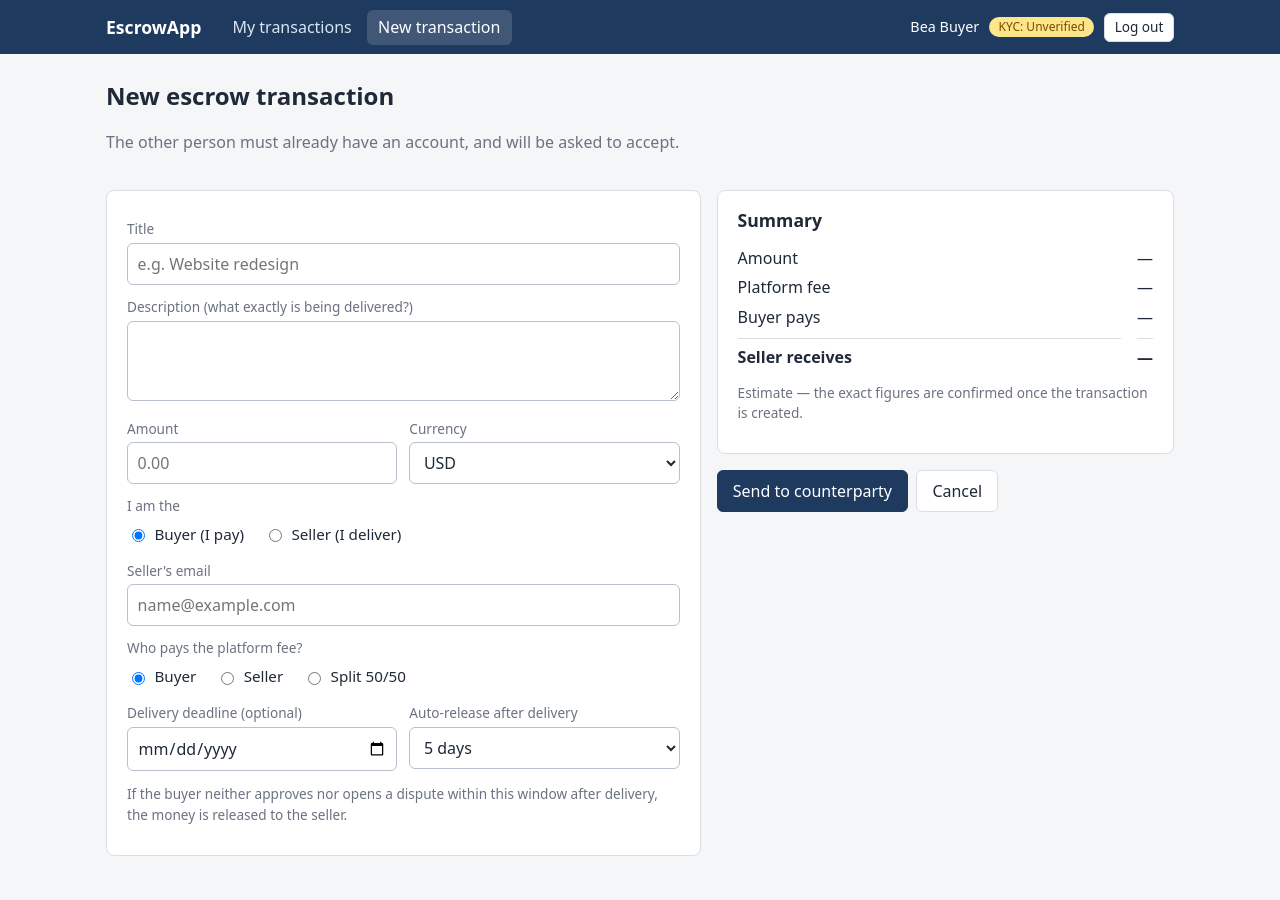
Test case: new transaction › sends amounts in minor units and shows a fee preview matching the server
The width and height of the screenshot is (1280, 900).
In the field labelled "Title": (403, 264) top-left (127, 243), bottom-right (680, 285), type "Logo"
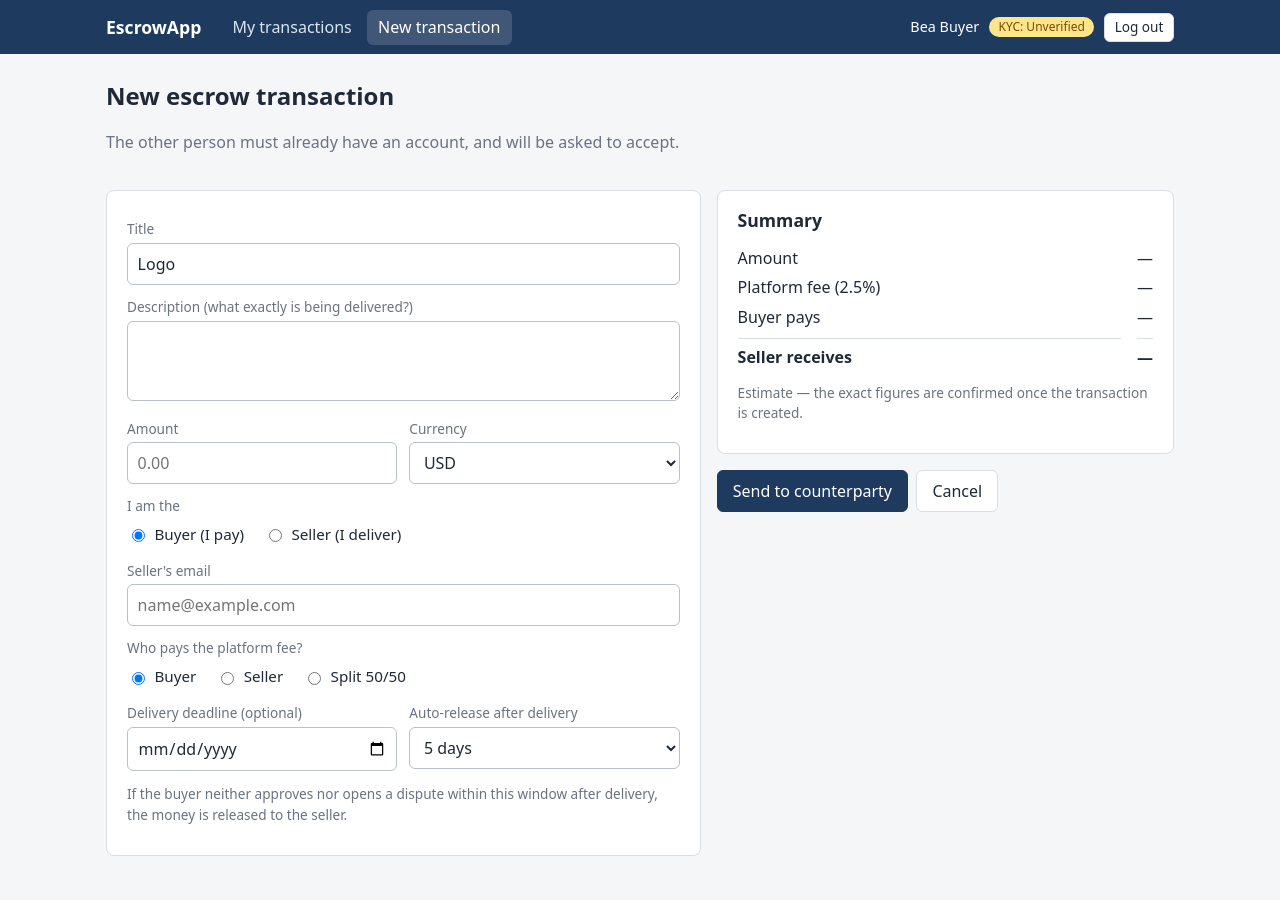
In the field labelled "Amount": (262, 463) top-left (127, 442), bottom-right (397, 484), type "150.00"
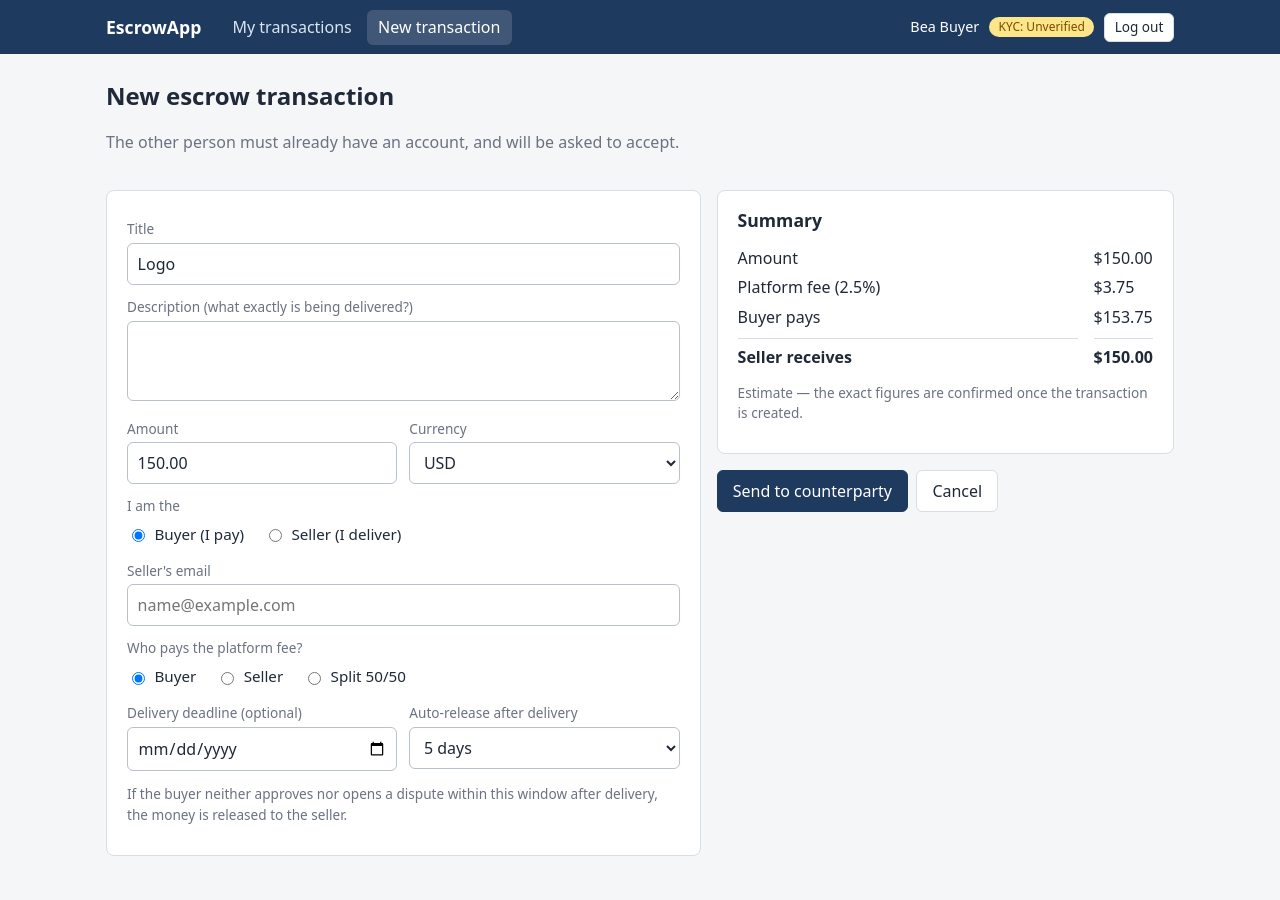
In the field labelled "Seller's email": (403, 605) top-left (127, 584), bottom-right (680, 626), type "sam@example.com"
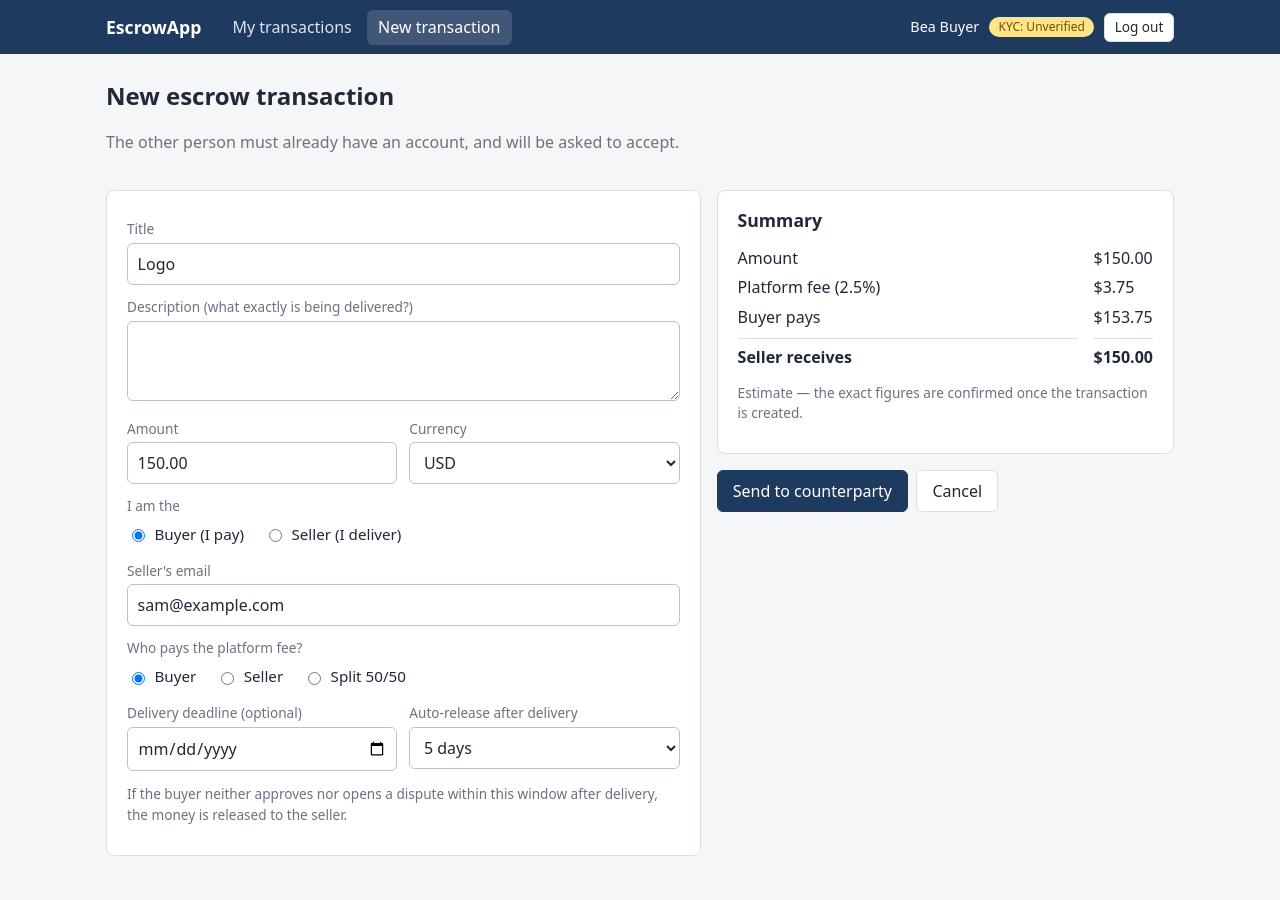
Result: the text "$153.75" is shown at top-left (1094, 305), bottom-right (1153, 329)
Click the button "Send to counterparty": (812, 491) top-left (717, 470), bottom-right (908, 512)
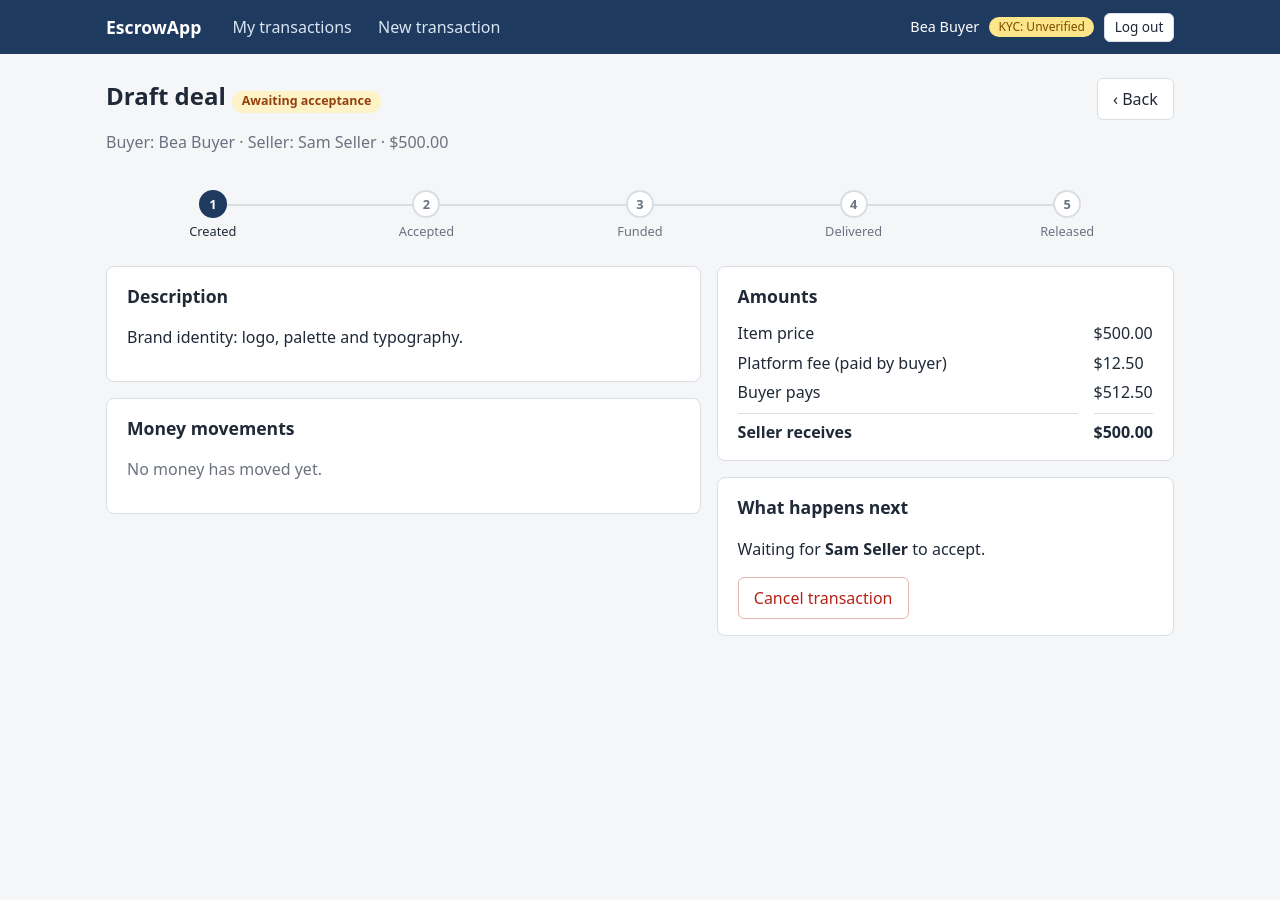
Result: the heading "Draft deal Awaiting acceptance" is shown at top-left (106, 79), bottom-right (381, 113)
